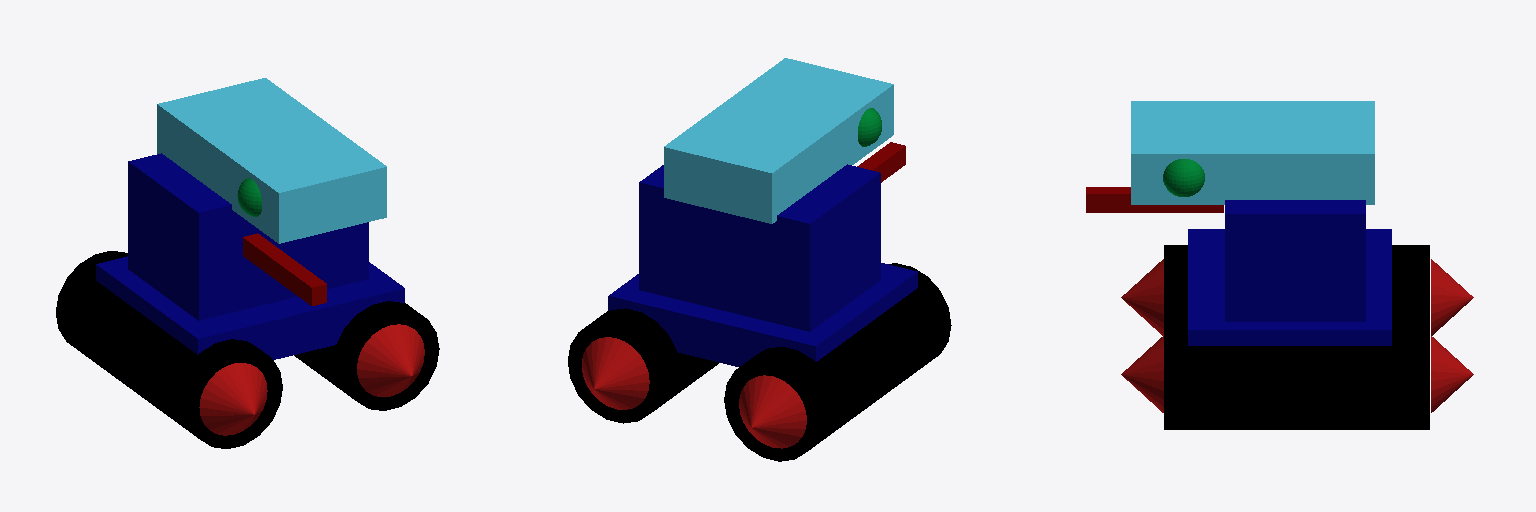
The model's file is Robot.obj.
3 views of the same model, side by side, from view 1: azimuth 30°, elevation 25°; view 2: azimuth 150°, elevation 25°; view 3: azimuth 270°, elevation 25° (orthographic).
Parts seen in each view (by area): view 1: Box003, Box002, Cylinder001, Box001, Cylinder002, Cone002, Cone001, Box004, Sphere001; view 2: Box002, Box003, Cylinder001, Box001, Cylinder002, Cone003, Cone004, Box004, Sphere001; view 3: Cylinder002, Box003, Box002, Box001, Cylinder001, Box004, Cone002, Cone001, Cone004, Cone003, Sphere002.
Boxes of the visible parts, x1,y1,x2,y2 form: Box003: [157, 78, 386, 243]; Box002: [128, 153, 368, 320]; Cylinder001: [56, 251, 282, 448]; Box001: [96, 256, 404, 359]; Cylinder002: [294, 301, 439, 410]; Cone002: [357, 324, 424, 396]; Cone001: [199, 363, 267, 435]; Box004: [243, 233, 326, 305]; Sphere001: [237, 178, 261, 216]; Box002: [639, 164, 880, 331]; Box003: [664, 58, 893, 223]; Cylinder001: [724, 263, 951, 461]; Box001: [608, 263, 917, 366]; Cylinder002: [568, 308, 718, 423]; Cone003: [739, 375, 806, 448]; Cone004: [582, 337, 649, 409]; Box004: [857, 142, 905, 182]; Sphere001: [858, 108, 881, 146]; Cylinder002: [1164, 321, 1429, 429]; Box003: [1131, 101, 1374, 204]; Box002: [1225, 200, 1365, 321]; Box001: [1188, 229, 1391, 345]; Cylinder001: [1164, 245, 1429, 320]; Box004: [1086, 187, 1223, 212]; Cone002: [1121, 336, 1163, 412]; Cone001: [1121, 259, 1163, 335]; Cone004: [1431, 336, 1473, 412]; Cone003: [1431, 259, 1473, 335]; Sphere002: [1163, 159, 1204, 196].
Size of the model in its own units: 80.38 by 79.45 by 108.